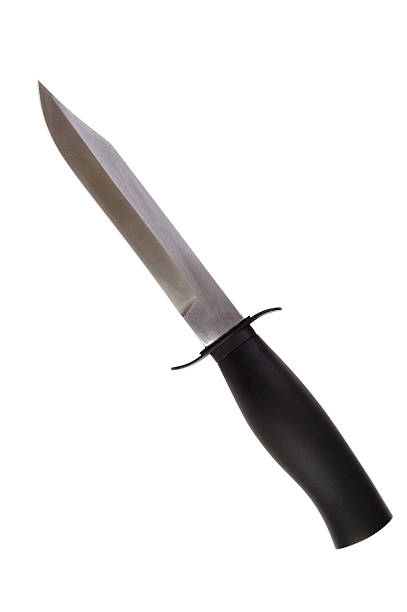knife: (36, 75, 394, 551)
